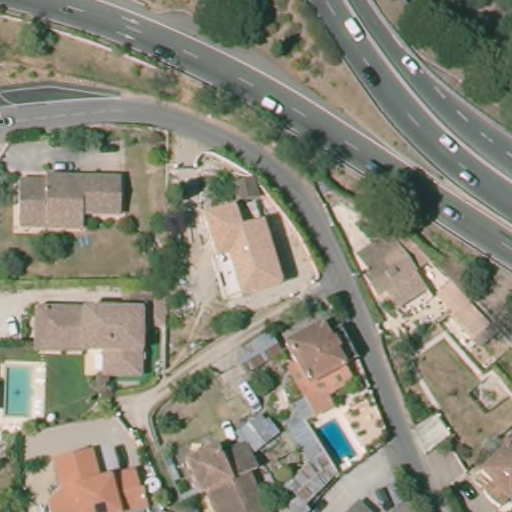pool: (1, 353, 46, 423), (312, 414, 362, 469)
